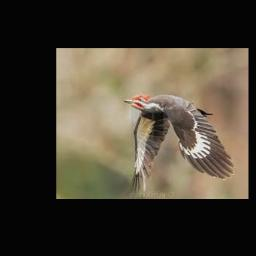Woodpecker: (124, 94, 234, 192)
